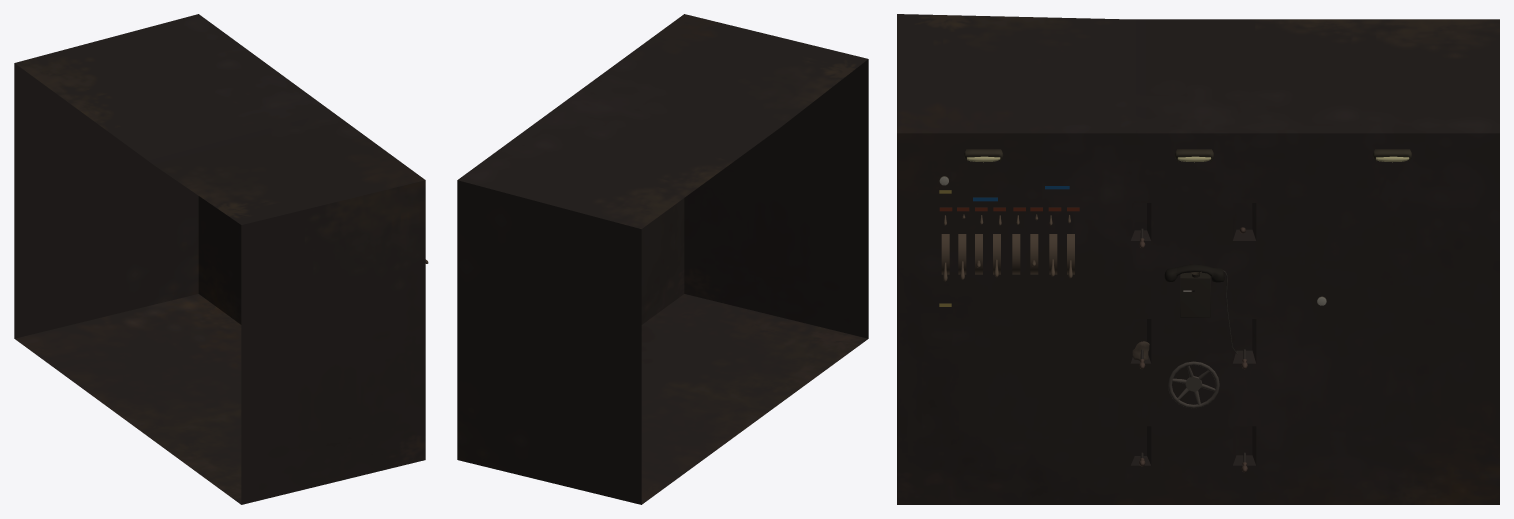
The model's file is ControlBox.fbx.
3 renders of one model, left to right at view 1: azimuth 30°, elevation 25°; view 2: azimuth 150°, elevation 25°; view 3: azimuth 270°, elevation 25°, orthographic. The views are drawn at different scales.
Visible parts, largest first — view 1: ControlBoxBody; view 2: ControlBoxBody; view 3: ControlBoxBody, PhoneBox.
Part boxes in pixels (x1,y1,x2,y2): ControlBoxBody: (14,14,425,504); ControlBoxBody: (457,14,868,504); ControlBoxBody: (897,14,1499,504); PhoneBox: (1180,273,1210,317).
Bounding box in the file's own units: 89.48 × 117 × 172.
